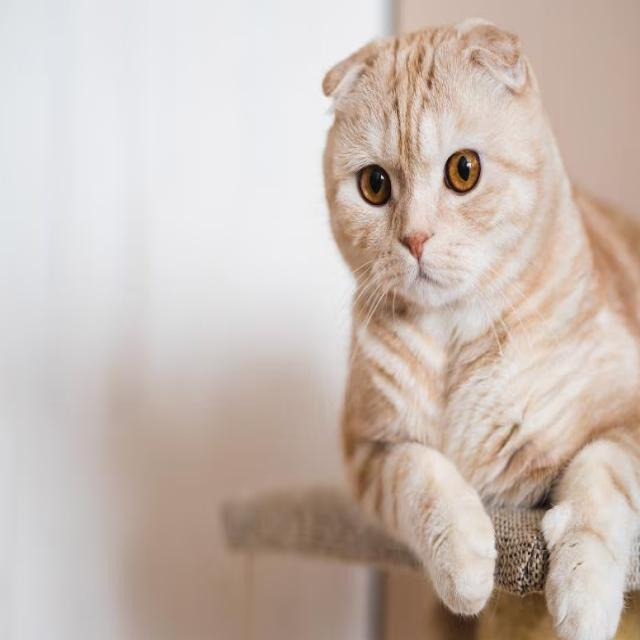Scottish Fold: (314, 13, 640, 640)
